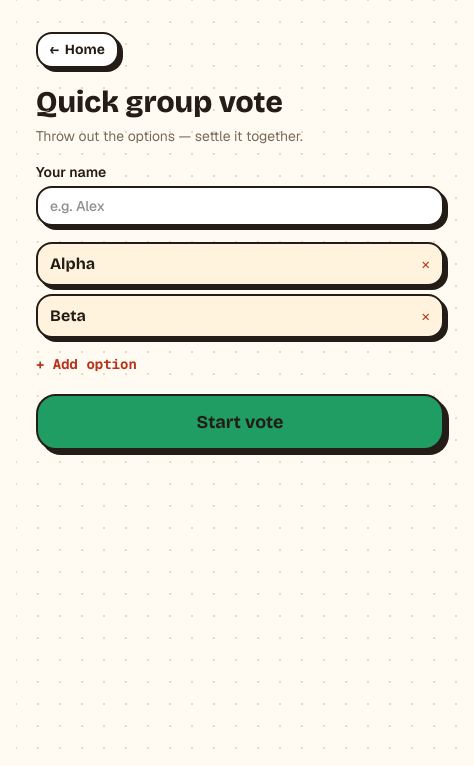
Scenario: QuickVoteForm › removing a pre-filled pick can drop below the 2-option minimum
In the field labelled "Your name": (240, 206) [36,186,444,226], type "Sam"
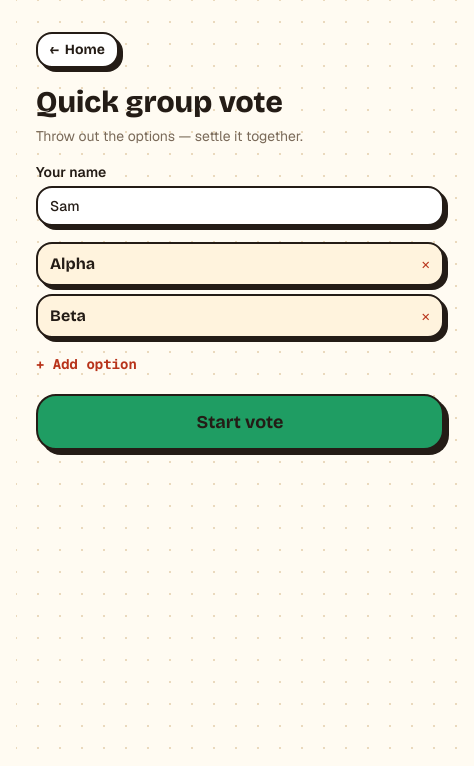
Click the button named "remove beta": (426, 316) [422,306,430,326]
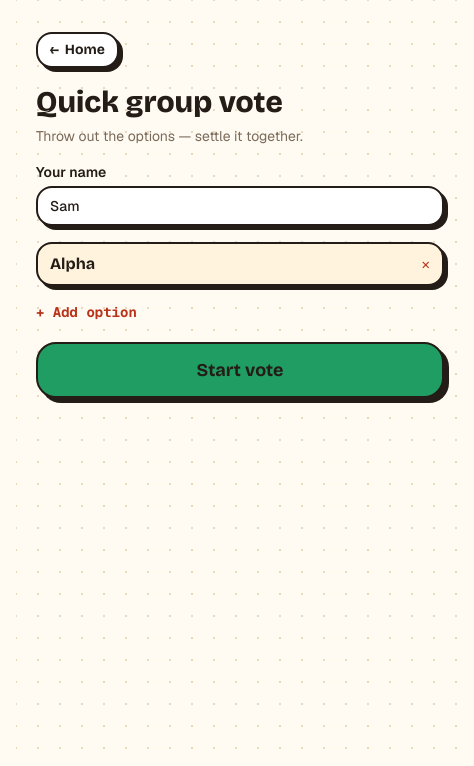
Click the button "Start vote": (240, 370) [36,342,444,398]
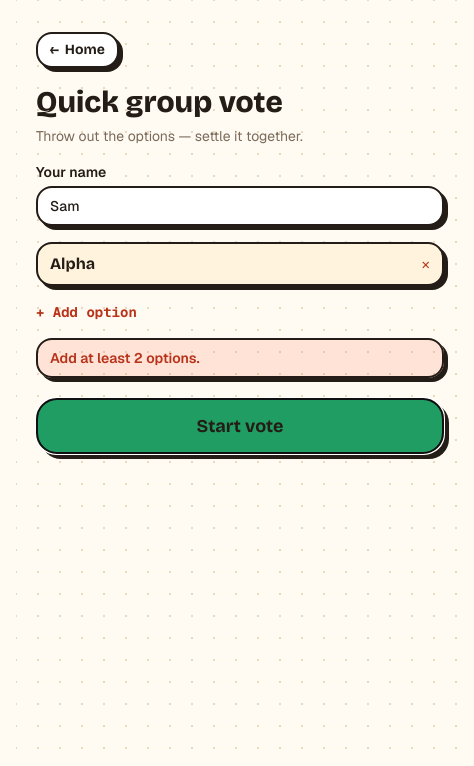
Expected: the text "Add at least 2 options." is shown, [36,338,444,378]
